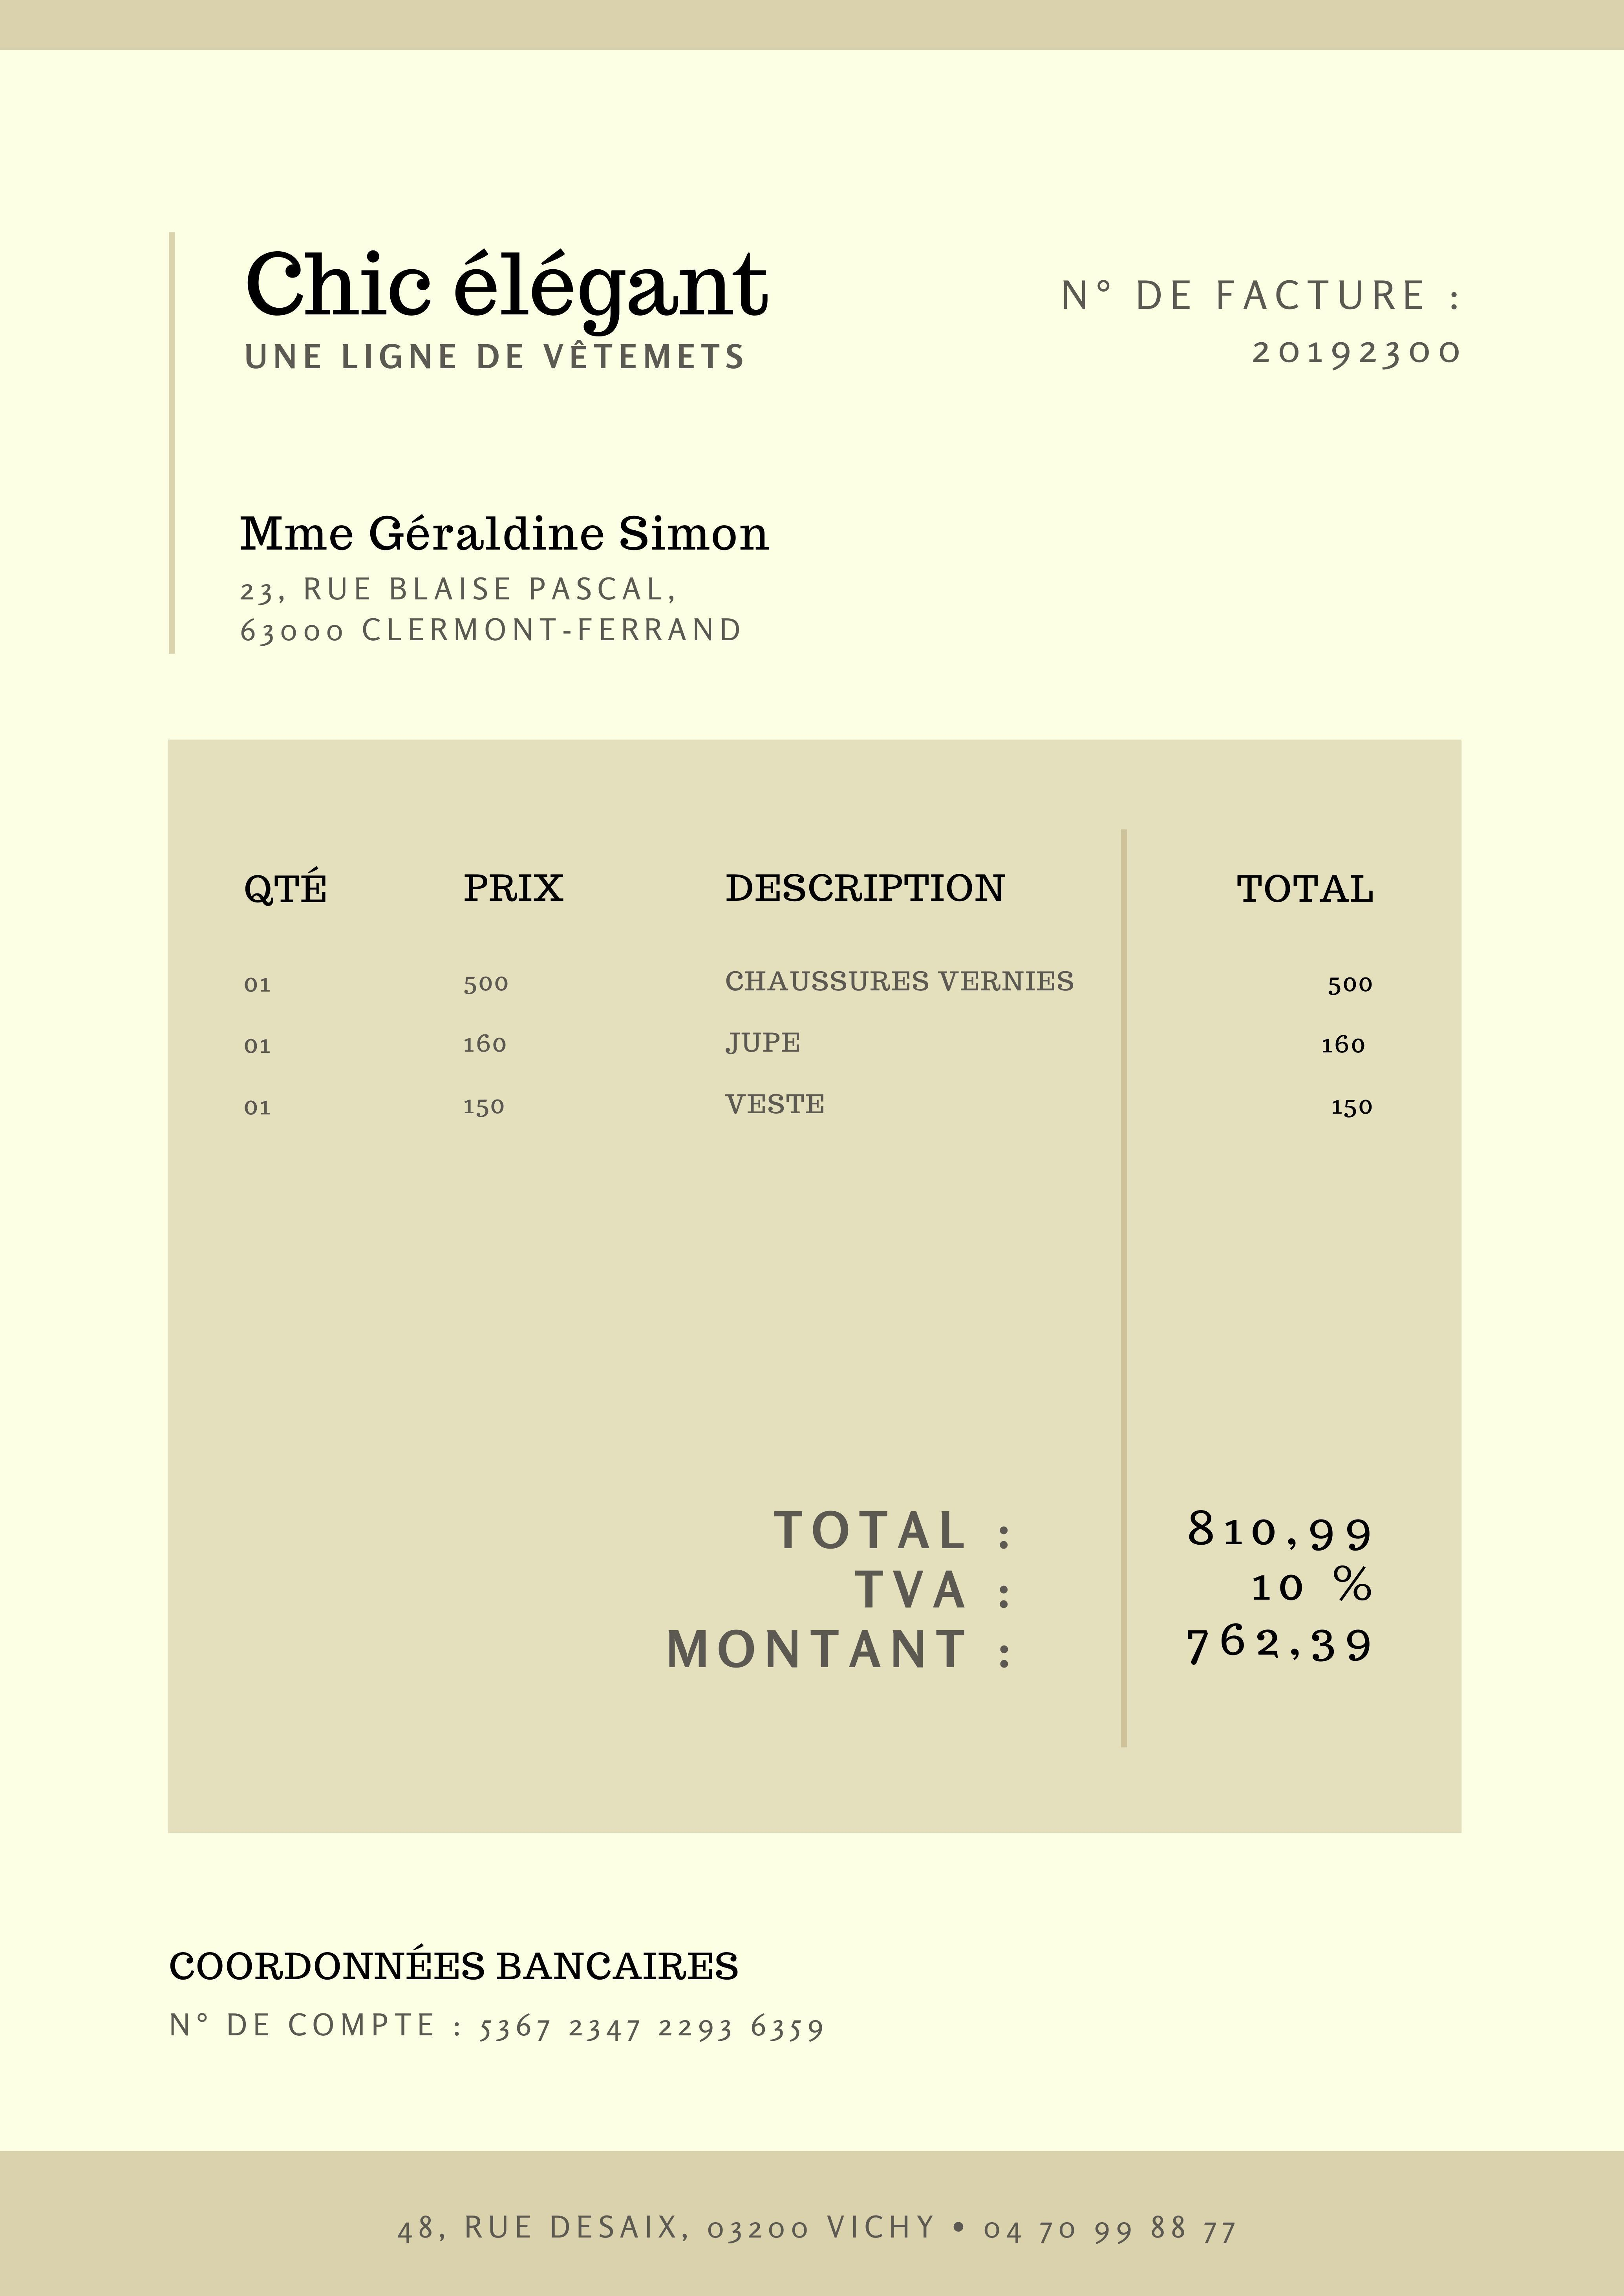ROI: (205, 845, 1424, 1204), (642, 1469, 1408, 1741), (205, 499, 814, 674), (221, 235, 796, 413), (138, 1928, 858, 2068), (1006, 256, 1543, 410)
